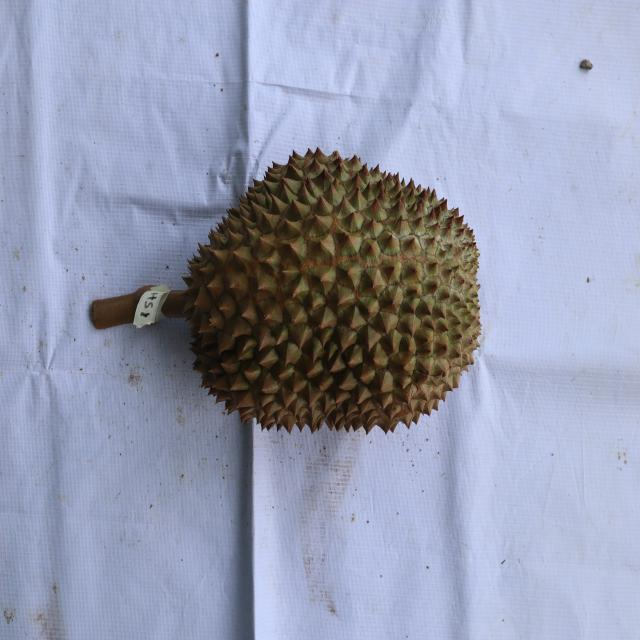mature: (184, 145, 484, 439)
